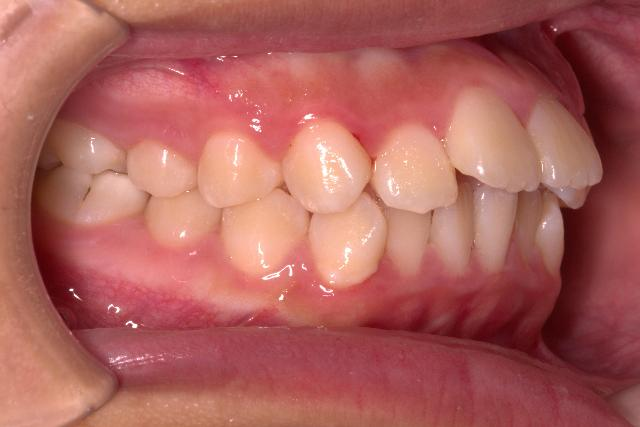canine class II 1/2: (218, 112, 390, 292)
molar class III 1/2: (31, 112, 152, 228)
